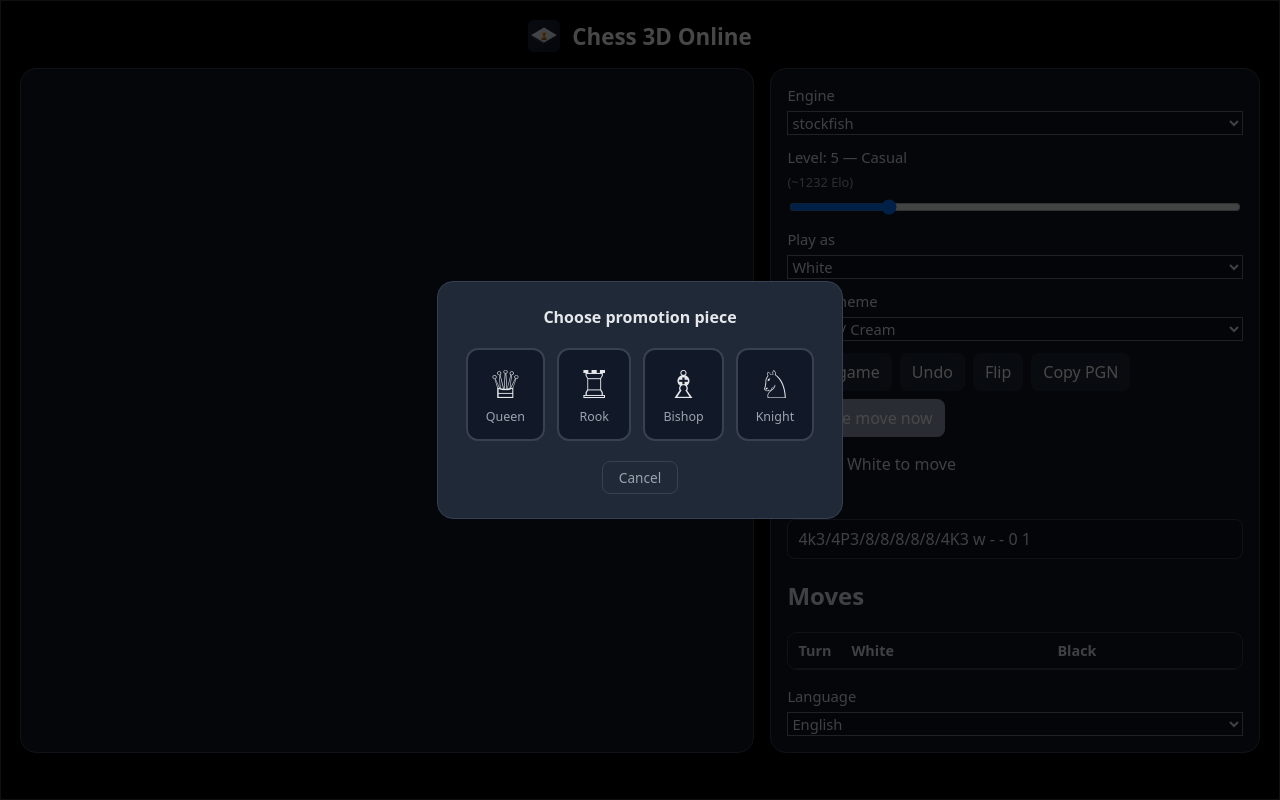
it: App › closes promotion modal when Cancel is clicked
Expected: the text "Status: White to move" is shown, [787,453,956,475]
Click the button "Cancel" at [640, 478], box [602,461,678,494]
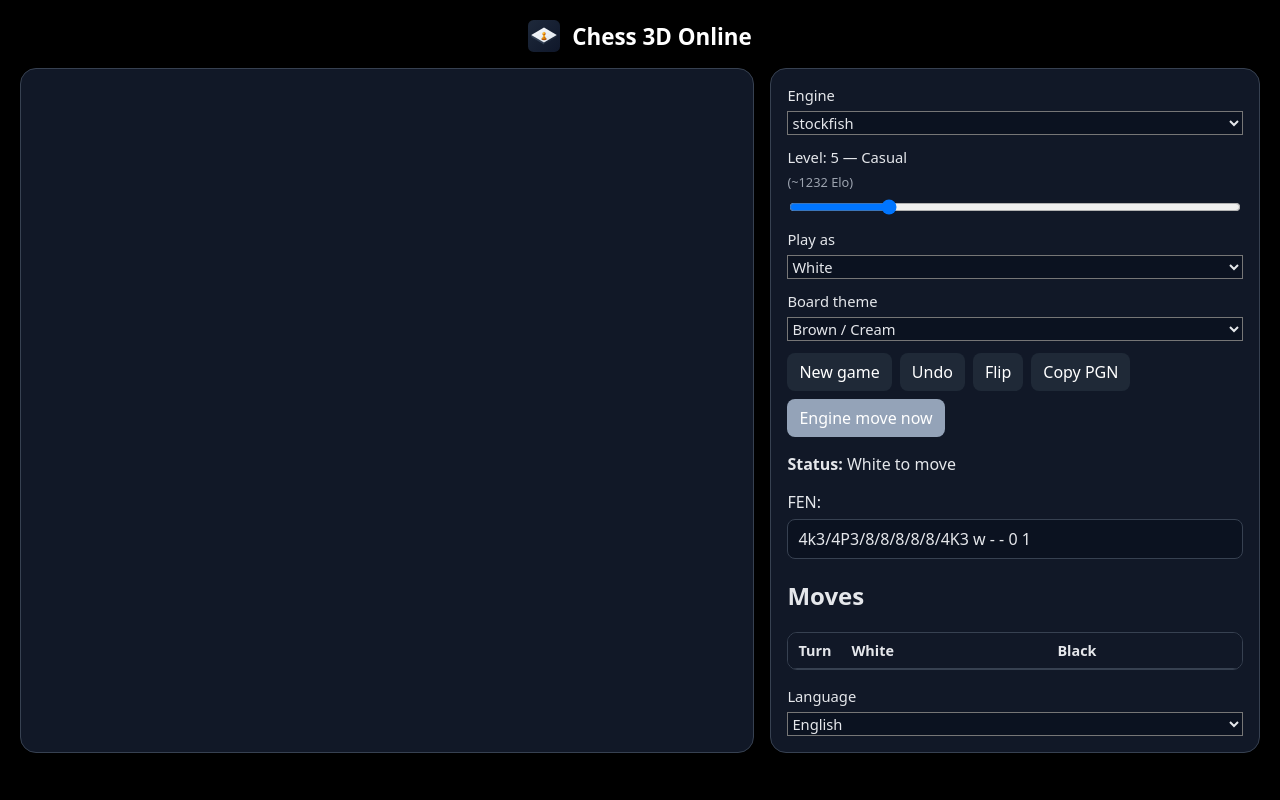
Expected: the text "Choose promotion piece" is gone
